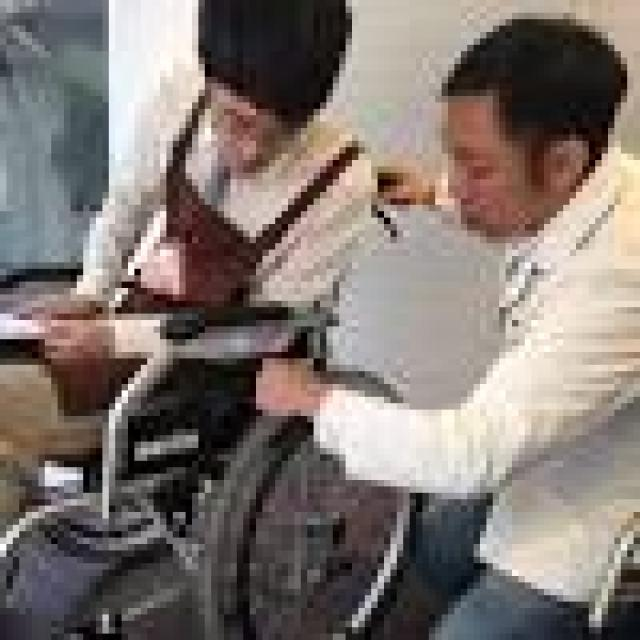wheelchairs: (0, 166, 410, 634)
